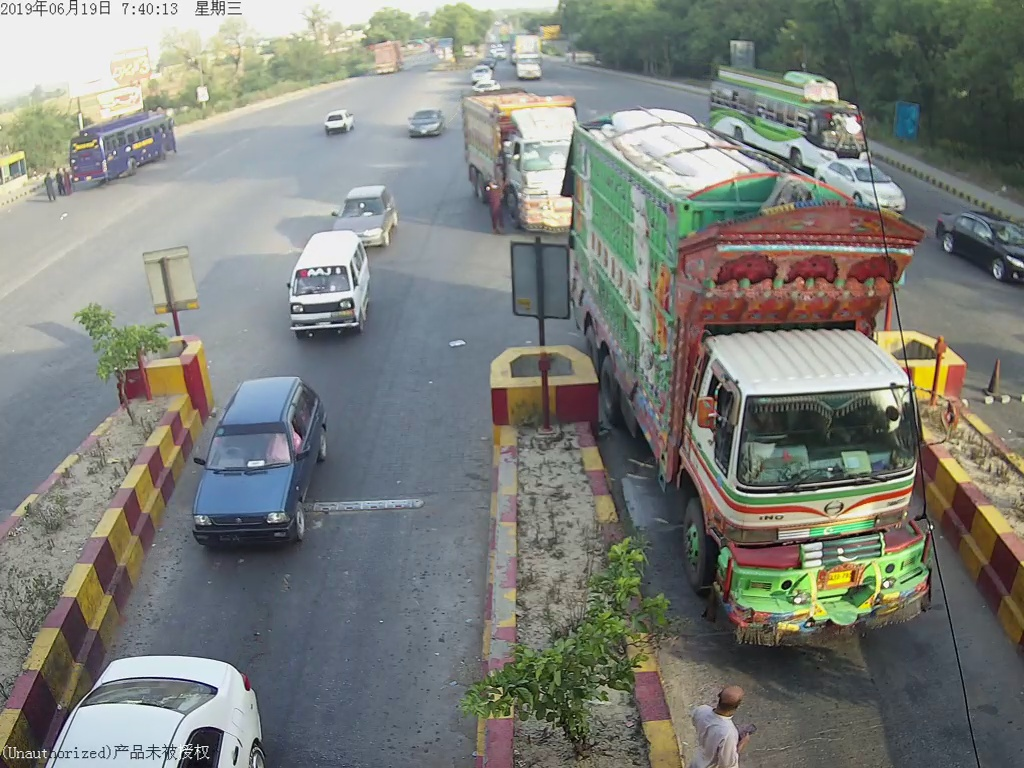Cat-1: (192, 371, 333, 562), (285, 230, 375, 344), (406, 112, 445, 140)
Cat-4: (567, 117, 939, 659)
